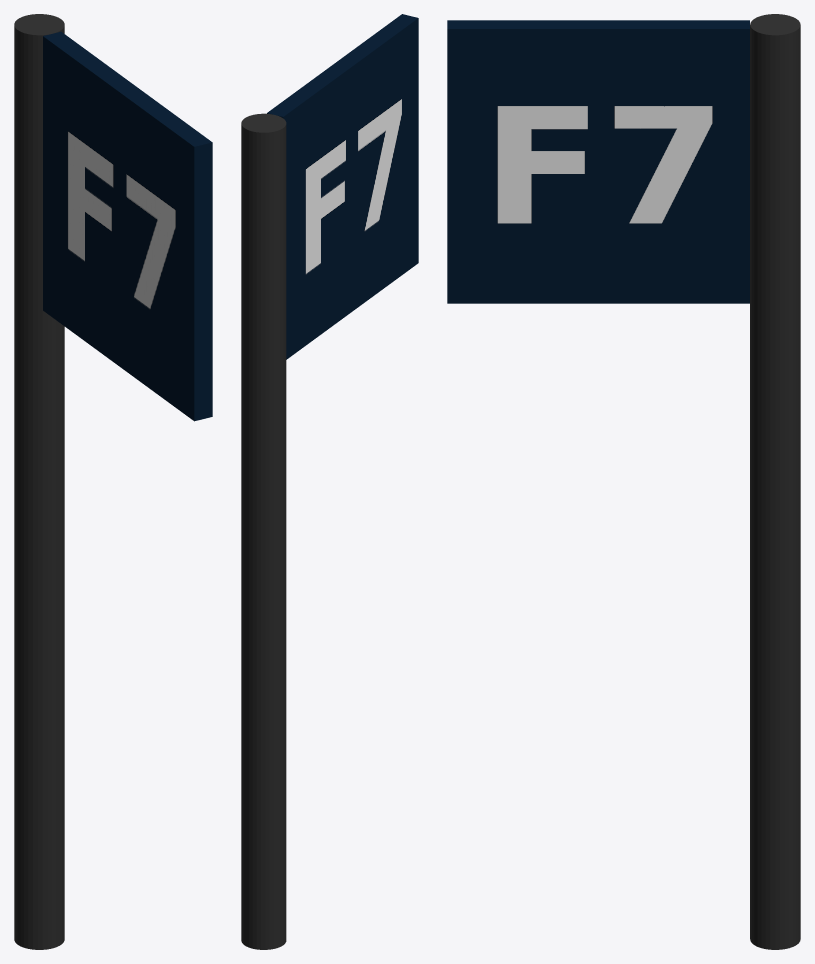
File: start_flag.dae
The picture shows the model from 3 angles, left to right: view 1: azimuth 30°, elevation 25°; view 2: azimuth 150°, elevation 25°; view 3: azimuth 270°, elevation 25°; orthographic projection. The views are drawn at different scales.
Visible parts, largest first — view 1: flag; view 2: flag; view 3: flag.
Part boxes in pixels (x1,y1,x2,y2): flag: (14, 14, 212, 949); flag: (241, 14, 418, 949); flag: (447, 14, 800, 949).
Bounding box in the file's own units: 0.1 × 0.7 × 2.
Materials: 2 (1 with a texture image).
